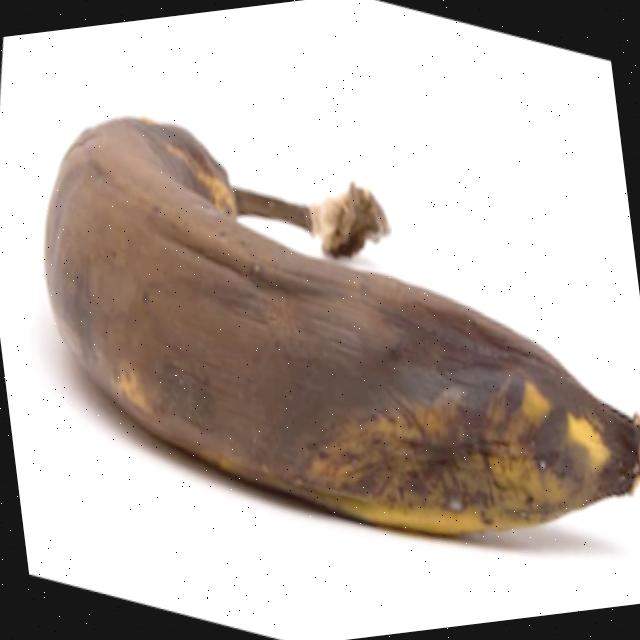rotten banana: (7, 53, 640, 602)
